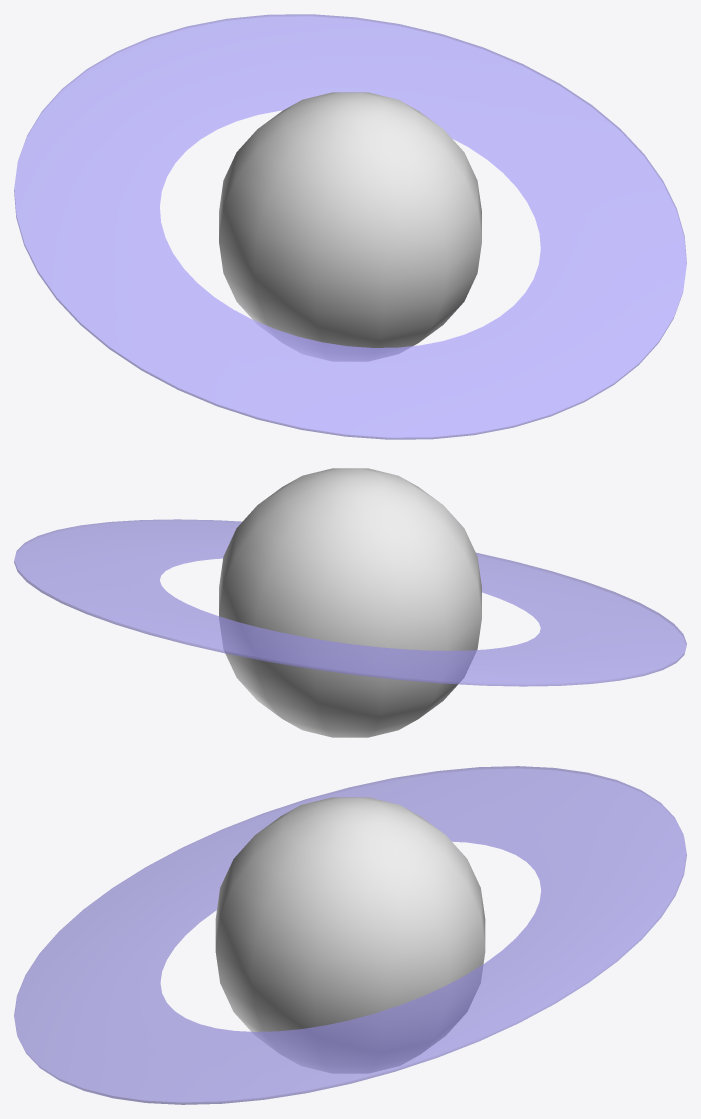
Rendered from Planet_edit.fbx.
The picture shows the model from 3 angles, top to bottom: view 1: azimuth 30°, elevation 25°; view 2: azimuth 150°, elevation 25°; view 3: azimuth 270°, elevation 25°; orthographic projection. The views are drawn at different scales.
Parts seen in each view (by area): view 1: Tube, Sphere; view 2: Sphere, Tube; view 3: Tube, Sphere.
Part boxes in pixels (x1,y1,x2,y2): Tube: [14, 14, 686, 439]; Sphere: [219, 92, 481, 361]; Sphere: [219, 468, 481, 737]; Tube: [14, 519, 686, 686]; Tube: [14, 766, 686, 1104]; Sphere: [215, 797, 485, 1073].
Bounding box in the file's own units: 498 × 200 × 482.
